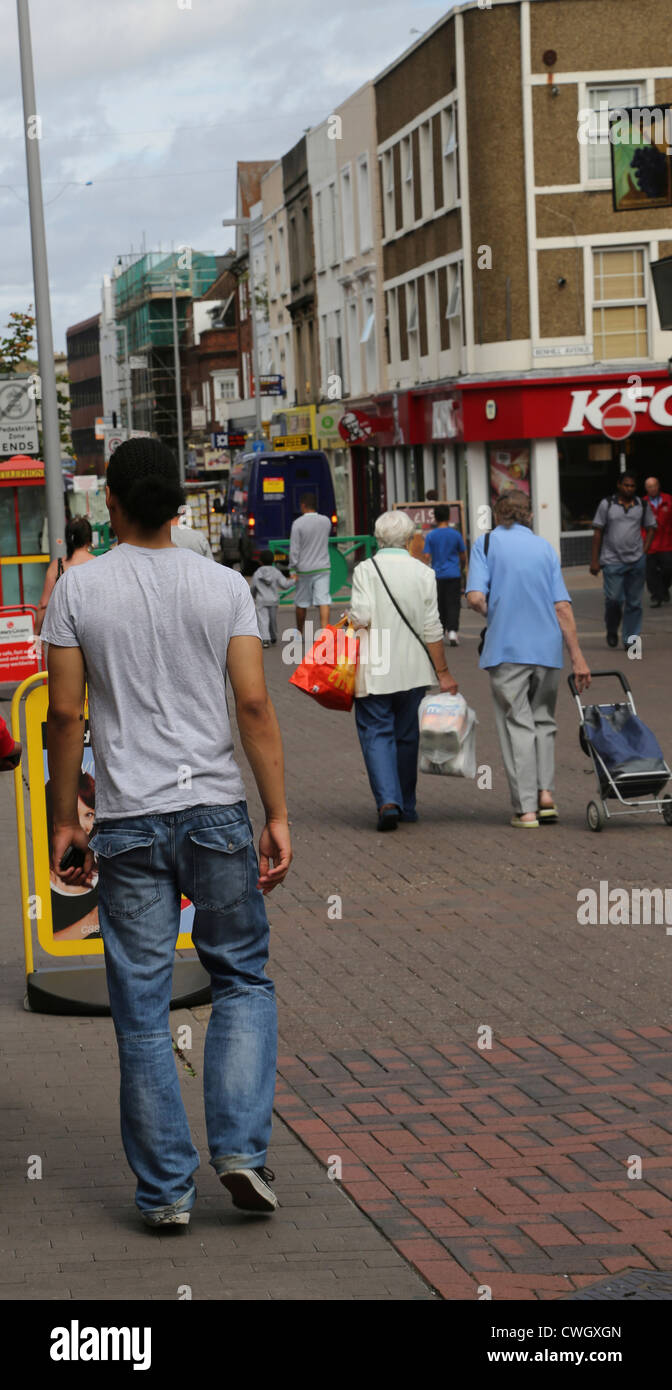person: (41, 435, 299, 1237), (327, 507, 460, 831), (469, 483, 590, 827), (597, 472, 647, 653), (288, 496, 336, 648), (423, 500, 466, 648), (640, 463, 672, 609)
